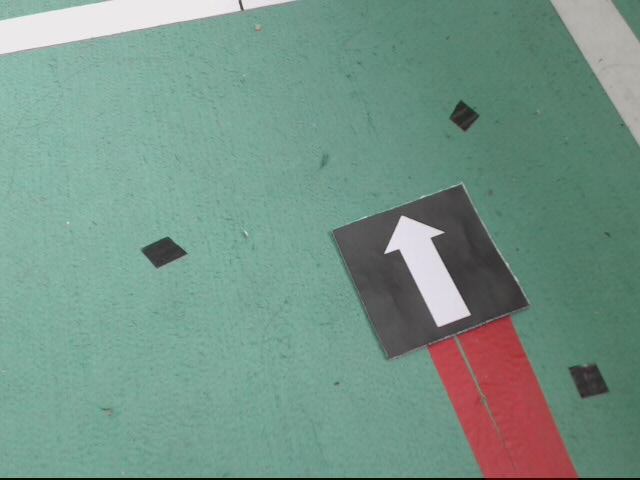straight: (340, 181, 528, 363)
